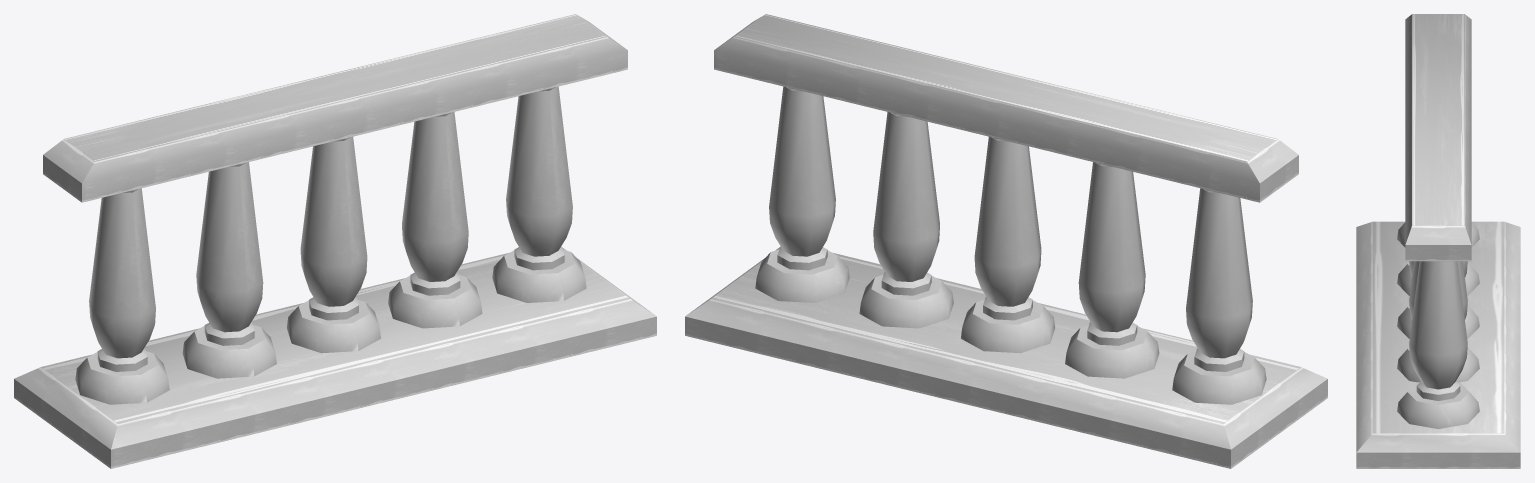
Rendered from Railings.fbx.
The picture shows the model from 3 angles, left to right: view 1: azimuth 30°, elevation 25°; view 2: azimuth 150°, elevation 25°; view 3: azimuth 270°, elevation 25°; orthographic projection. The views are drawn at different scales.
Visible parts, largest first — view 1: Railings; view 2: Railings; view 3: Railings.
Part boxes in pixels (x1,y1,x2,y2): Railings: [14, 14, 656, 468]; Railings: [685, 14, 1327, 468]; Railings: [1356, 14, 1520, 468].
Size of the model in its own units: 200 by 97.67 by 61.53.
